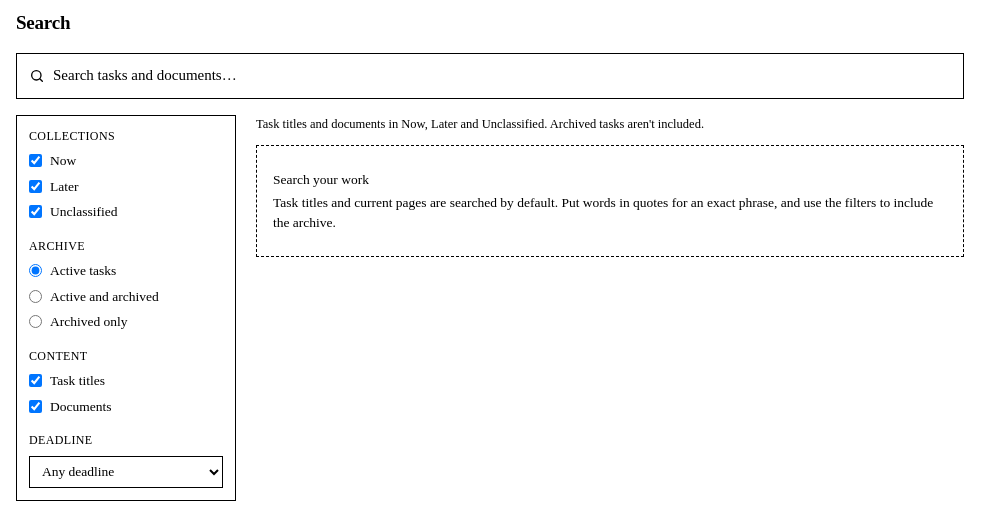
Test case: the full search screen › drops a result whose task is gone instead of opening the wrong thing
This screenshot has width=981, height=518.
Type "portfolio" into the search field at (502, 76), box left=53, top=54, right=951, bottom=98
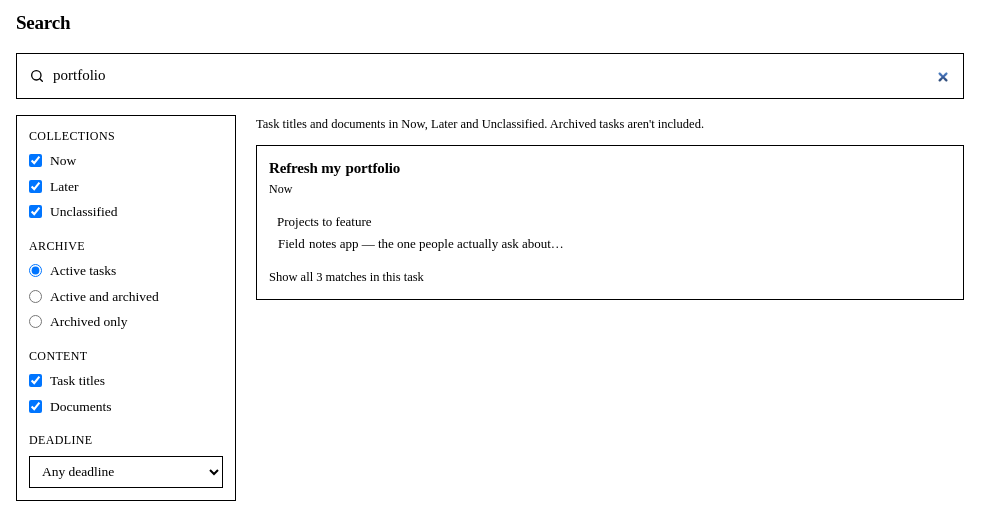
Click the link "Refresh my portfolio" at (307, 168), box left=269, top=160, right=401, bottom=176
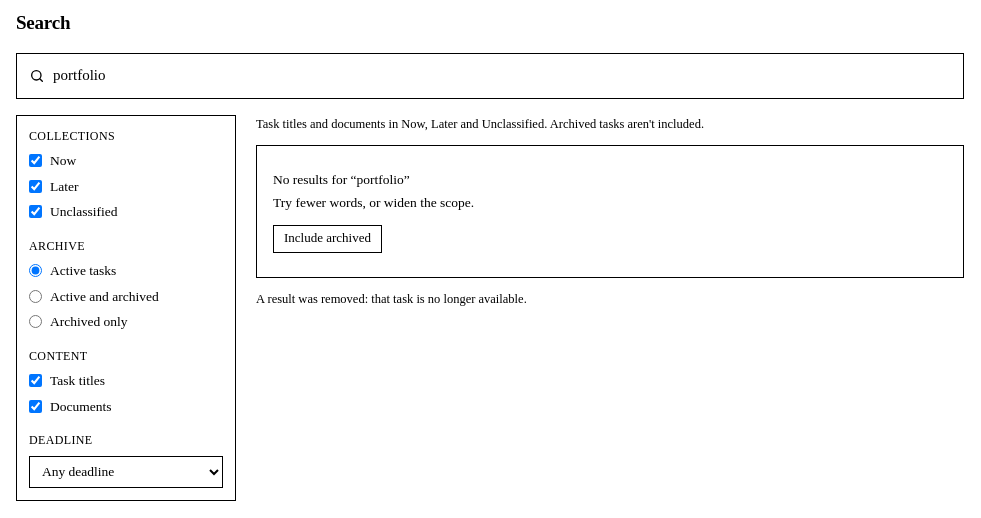
Expected: the text "A result was removed: that task is no longer available." is shown, left=256, top=292, right=527, bottom=306
